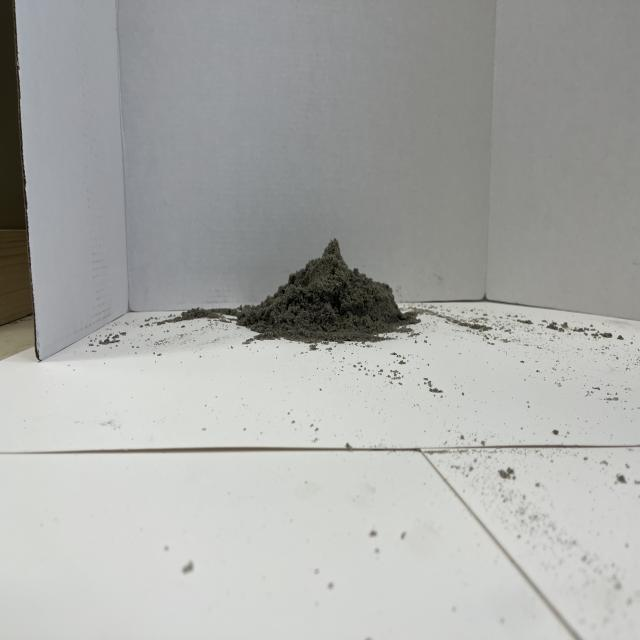sand: (225, 216, 442, 359)
